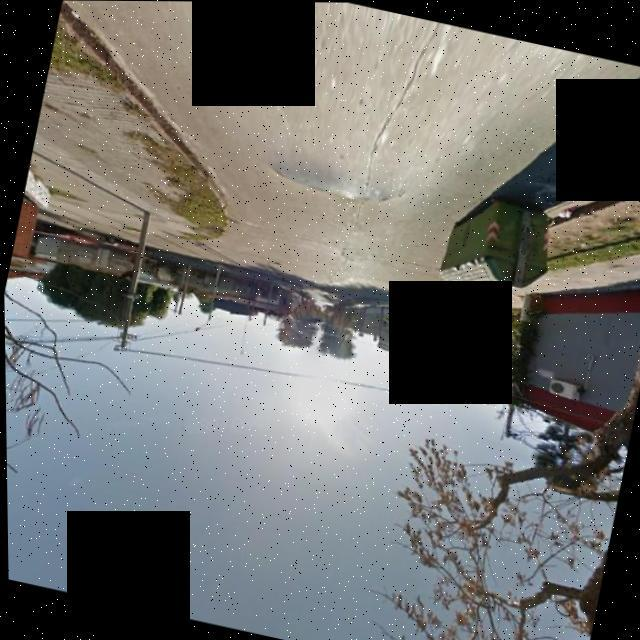bin: (423, 156, 579, 330)
